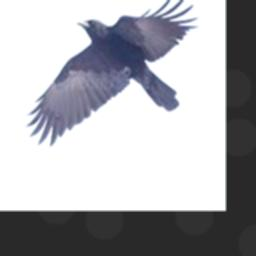Crow: (26, 0, 200, 144)
